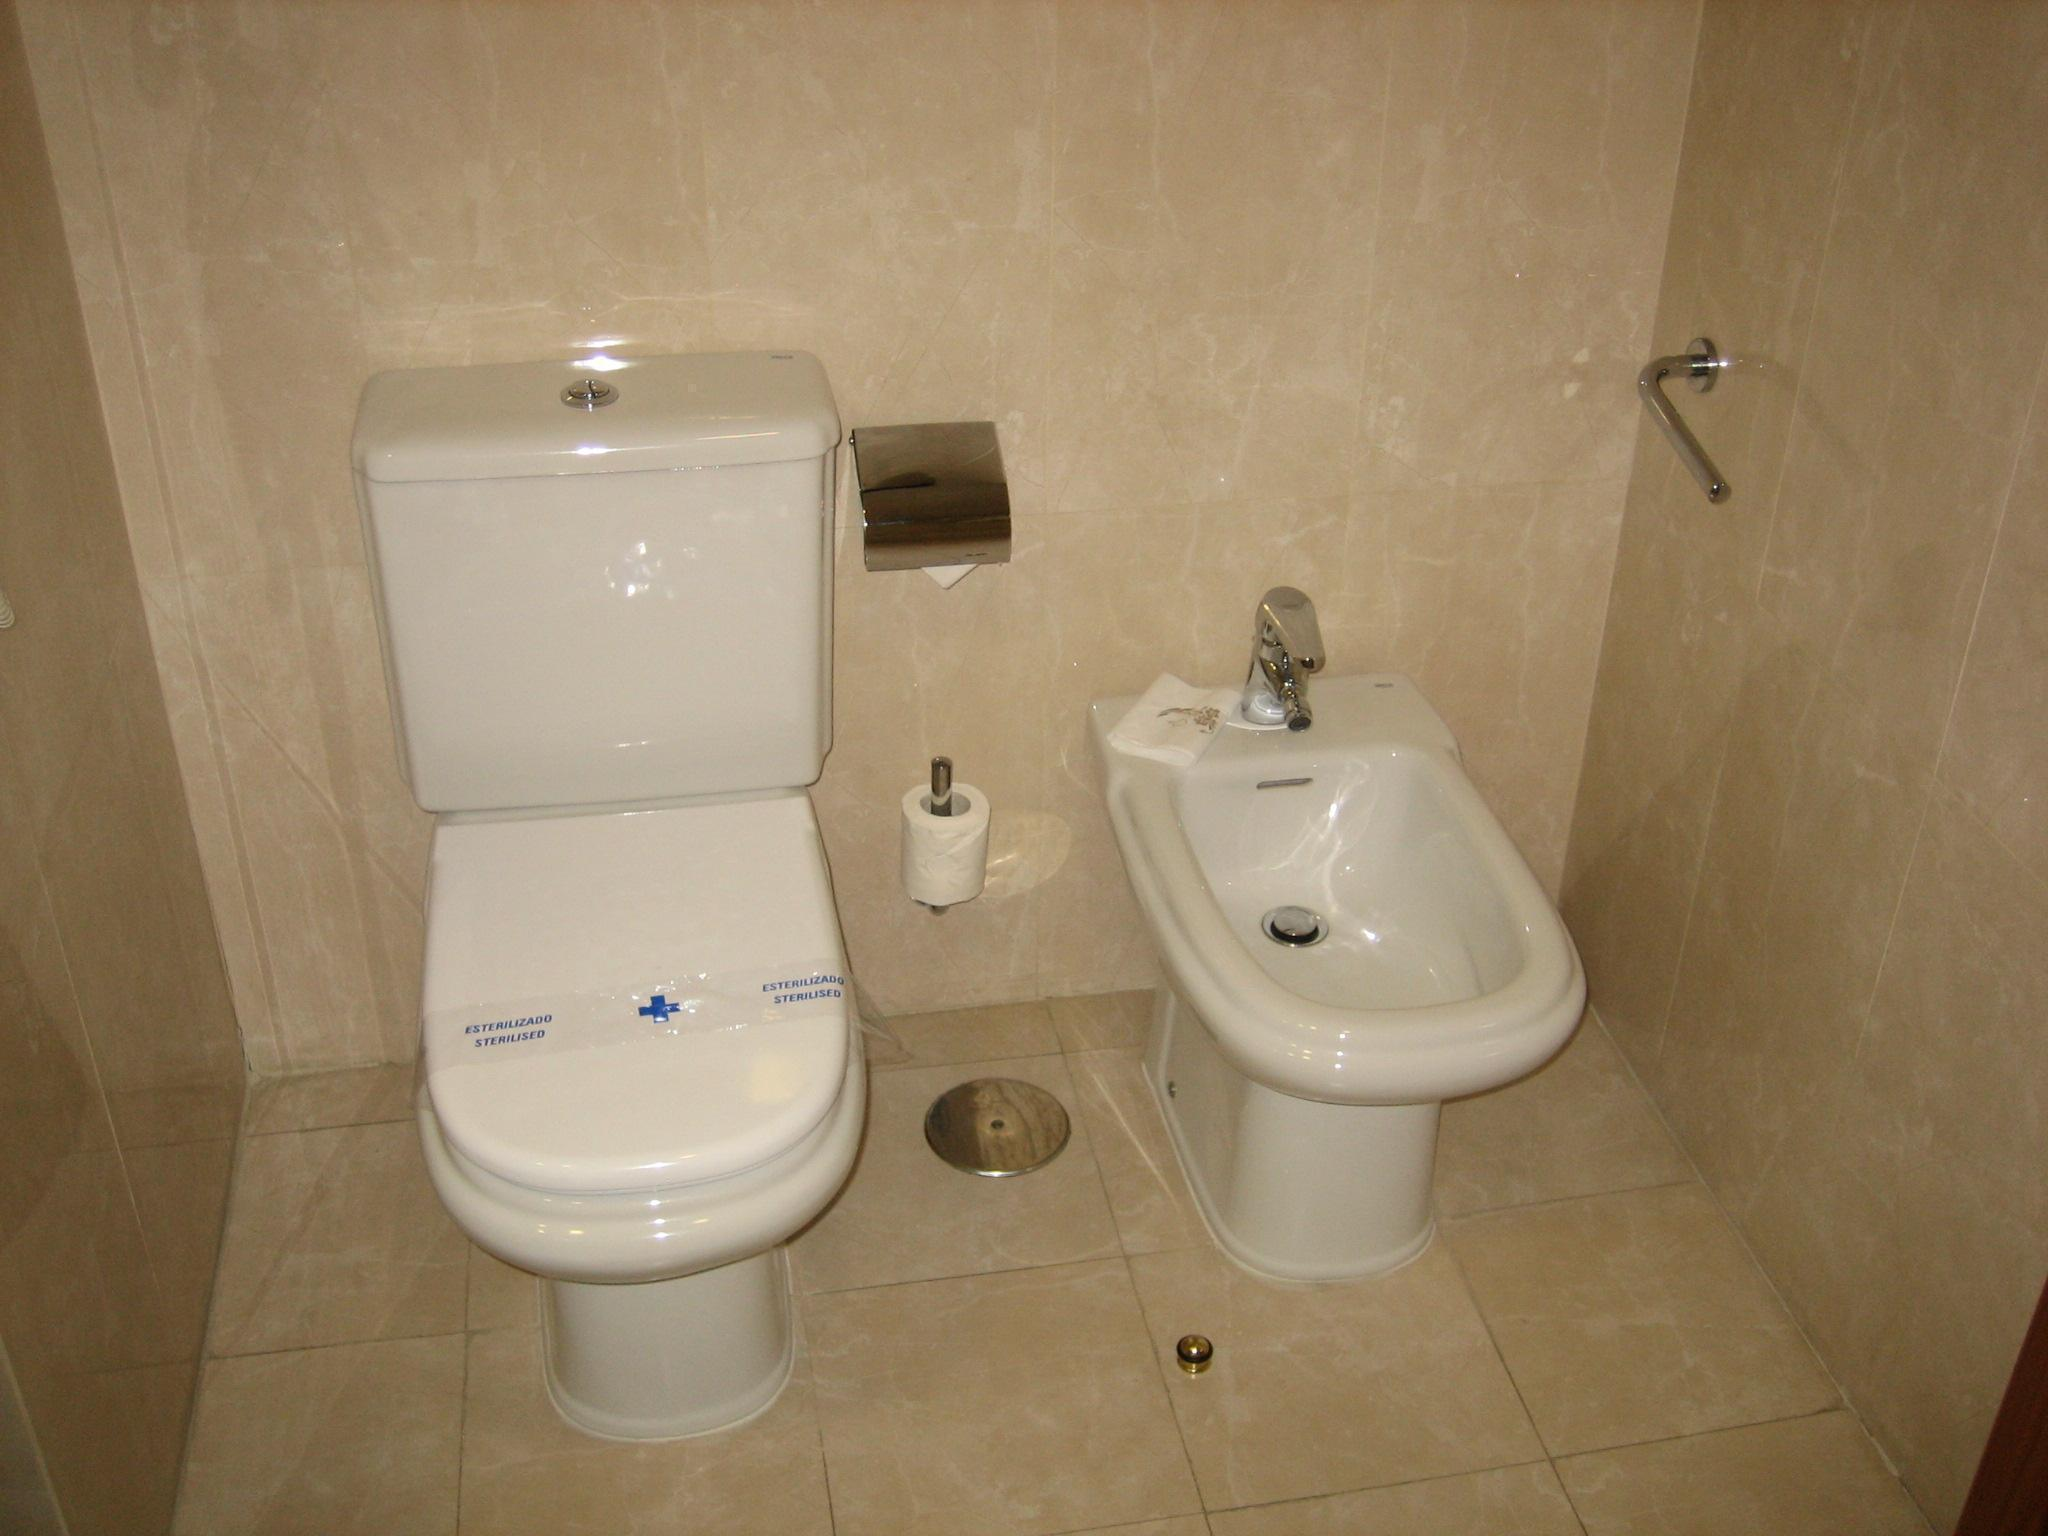Sanitario: (306, 355, 916, 1460), (1082, 582, 1608, 1312)
